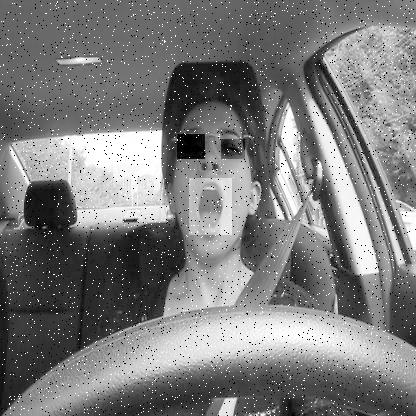seatbelt: (155, 81, 307, 416)
